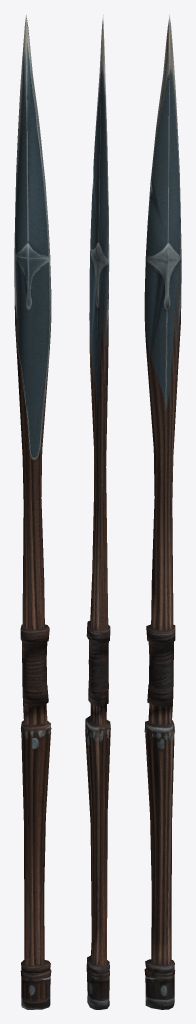
The model's file is spear-2.glb.
3 views of the same model, side by side, from view 1: azimuth 90°, elevation 25°; view 2: azimuth 210°, elevation 25°; view 3: azimuth 270°, elevation 25° (orthographic).
Visible parts, largest first — view 1: Meshy_local_bake_spear-2; view 2: Meshy_local_bake_spear-2; view 3: Meshy_local_bake_spear-2.
Part boxes in pixels (<box>): Meshy_local_bake_spear-2: <box>14,15,51,1009</box>; Meshy_local_bake_spear-2: <box>85,15,110,1009</box>; Meshy_local_bake_spear-2: <box>144,15,181,1009</box>.
Bounding box in the file's own units: 0.044 × 2.05 × 0.07.
1 material, 1 textured.
